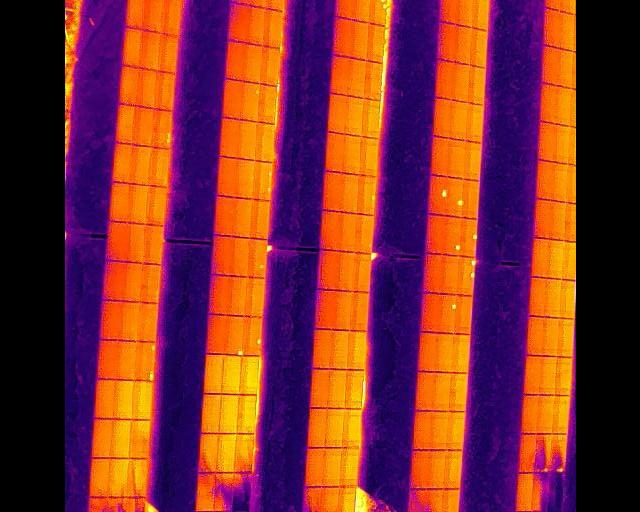Cell: (239, 82, 259, 121), (358, 174, 377, 215), (224, 316, 243, 356), (246, 240, 266, 278), (548, 434, 567, 473), (428, 175, 446, 215), (242, 317, 260, 356), (445, 177, 462, 218), (439, 295, 456, 334), (459, 216, 475, 257), (532, 435, 548, 473), (445, 215, 460, 255)
Cell-Multi: (133, 341, 155, 380), (252, 162, 271, 201), (151, 110, 170, 148), (458, 257, 474, 296), (371, 0, 385, 27)
No-Anomaly: (125, 459, 148, 498), (100, 301, 121, 341), (106, 222, 127, 262), (90, 419, 111, 459), (142, 225, 162, 266), (218, 119, 239, 158), (145, 185, 165, 225), (108, 182, 128, 222), (102, 262, 122, 302), (234, 159, 254, 199), (334, 16, 353, 58), (129, 147, 150, 185), (227, 3, 248, 41), (149, 148, 169, 187), (131, 381, 151, 420), (109, 420, 129, 459), (88, 459, 108, 498), (132, 107, 152, 146), (209, 237, 229, 276), (207, 275, 227, 314), (244, 278, 264, 317), (328, 92, 346, 135), (136, 69, 156, 107), (137, 303, 157, 341), (140, 264, 159, 304), (347, 331, 366, 371), (326, 133, 345, 173), (339, 447, 358, 487), (220, 357, 240, 395), (205, 314, 224, 354), (203, 355, 222, 395), (228, 238, 247, 278), (129, 420, 148, 459), (353, 214, 372, 253), (97, 341, 116, 380), (127, 185, 146, 224), (413, 411, 432, 450), (231, 199, 250, 238), (250, 200, 269, 239), (259, 47, 278, 86), (200, 394, 219, 433), (254, 123, 273, 162), (426, 214, 444, 255), (111, 143, 129, 184), (321, 211, 339, 252), (156, 72, 175, 110), (140, 31, 159, 69), (159, 35, 178, 73), (118, 67, 137, 105), (358, 137, 377, 175), (217, 158, 236, 196), (417, 332, 435, 372), (331, 55, 349, 95), (116, 341, 134, 381), (324, 172, 342, 212), (217, 433, 235, 473), (311, 369, 329, 409), (214, 196, 232, 236), (321, 448, 339, 488), (441, 449, 458, 491), (262, 10, 281, 47), (108, 459, 126, 498), (114, 381, 132, 420), (96, 381, 114, 420), (222, 79, 240, 118), (227, 277, 245, 316), (236, 395, 254, 434), (220, 395, 238, 434), (243, 45, 261, 84), (424, 252, 441, 293), (318, 290, 335, 331), (550, 396, 568, 434), (331, 330, 348, 370), (120, 301, 137, 341), (421, 293, 438, 333), (128, 224, 145, 264), (436, 333, 453, 373), (361, 98, 378, 138), (432, 99, 449, 139), (123, 27, 140, 67), (556, 318, 573, 358), (307, 409, 324, 449), (462, 140, 479, 180), (303, 448, 320, 488), (431, 135, 447, 177), (246, 8, 264, 45), (236, 122, 254, 159), (225, 43, 243, 80), (161, 0, 180, 35), (122, 263, 139, 302), (341, 409, 358, 448), (320, 251, 337, 290), (453, 25, 470, 64), (448, 373, 465, 412), (313, 330, 330, 369), (235, 434, 252, 473), (141, 0, 161, 33), (349, 57, 365, 98), (337, 252, 353, 293), (350, 291, 366, 332), (437, 21, 453, 62), (346, 95, 362, 136), (452, 333, 468, 374), (447, 138, 463, 179), (525, 317, 542, 355), (241, 356, 258, 394), (445, 411, 462, 449), (538, 357, 555, 395), (468, 64, 484, 104), (431, 411, 447, 451), (435, 60, 451, 100), (116, 105, 132, 145), (353, 252, 369, 292), (416, 372, 432, 412), (450, 100, 466, 140), (517, 434, 533, 473), (441, 254, 457, 293), (543, 278, 559, 317), (546, 240, 562, 279), (535, 396, 551, 435), (452, 62, 468, 101), (259, 85, 275, 124), (325, 409, 341, 448), (462, 179, 478, 218), (465, 103, 481, 142), (343, 172, 358, 213), (335, 290, 350, 331), (339, 212, 354, 253), (353, 20, 368, 61), (469, 27, 485, 65), (523, 357, 539, 395), (426, 450, 442, 488), (330, 371, 346, 409), (365, 61, 381, 99), (533, 200, 549, 238), (521, 395, 536, 435), (550, 162, 565, 202), (456, 295, 471, 335), (535, 160, 550, 200), (528, 278, 543, 317), (516, 473, 531, 512), (366, 23, 381, 62), (346, 370, 361, 409), (433, 372, 448, 411), (410, 450, 425, 489), (541, 46, 556, 85), (542, 318, 557, 357), (560, 280, 575, 318), (531, 239, 546, 277), (558, 11, 573, 49), (345, 135, 359, 175), (562, 240, 576, 280), (549, 201, 563, 240), (552, 124, 566, 163), (538, 123, 552, 162), (556, 49, 570, 88), (555, 358, 569, 396), (540, 85, 554, 123), (543, 8, 557, 46), (471, 0, 487, 31), (554, 87, 567, 125), (563, 204, 576, 242), (125, 0, 142, 28), (334, 488, 353, 512), (456, 0, 472, 27), (337, 0, 356, 22), (440, 0, 457, 23), (356, 0, 371, 23), (441, 490, 456, 512), (558, 0, 575, 12), (265, 0, 283, 10), (543, 0, 558, 9)
Shadowing: (193, 473, 214, 512), (198, 433, 216, 473), (215, 472, 231, 512), (232, 472, 248, 512), (547, 473, 563, 512), (530, 474, 546, 512), (316, 487, 338, 512), (301, 488, 320, 512), (424, 489, 441, 512), (407, 489, 423, 512), (86, 498, 107, 512), (125, 497, 144, 512), (107, 497, 125, 512)
